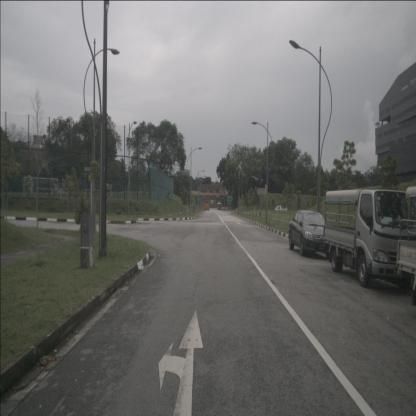vehicle-bus-rigid: (204, 200, 210, 210), (217, 202, 221, 210)
vehicle-car: (289, 210, 331, 259), (275, 206, 287, 213)
vehicle-truck: (322, 189, 416, 288), (396, 186, 416, 306)
